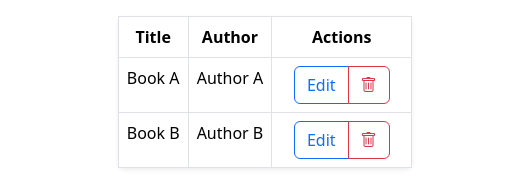
Scenario: BookTable › enters edit mode when Edit is clicked
This screenshot has width=531, height=187.
Click the button with aria-label "editButton" at (321, 85), box [294,66,348,104]
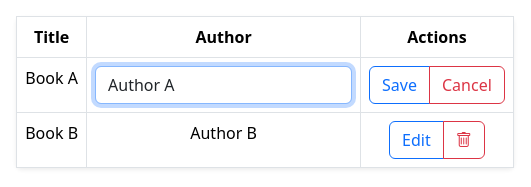
Now the field named "editForm" is shown, box [95,66,352,104]
